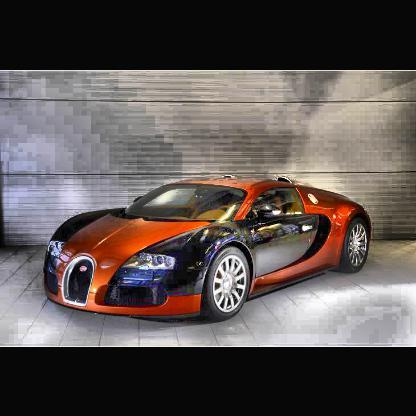Bugatti Veyron 16-4 Coupe 2009: (46, 176, 373, 319)
